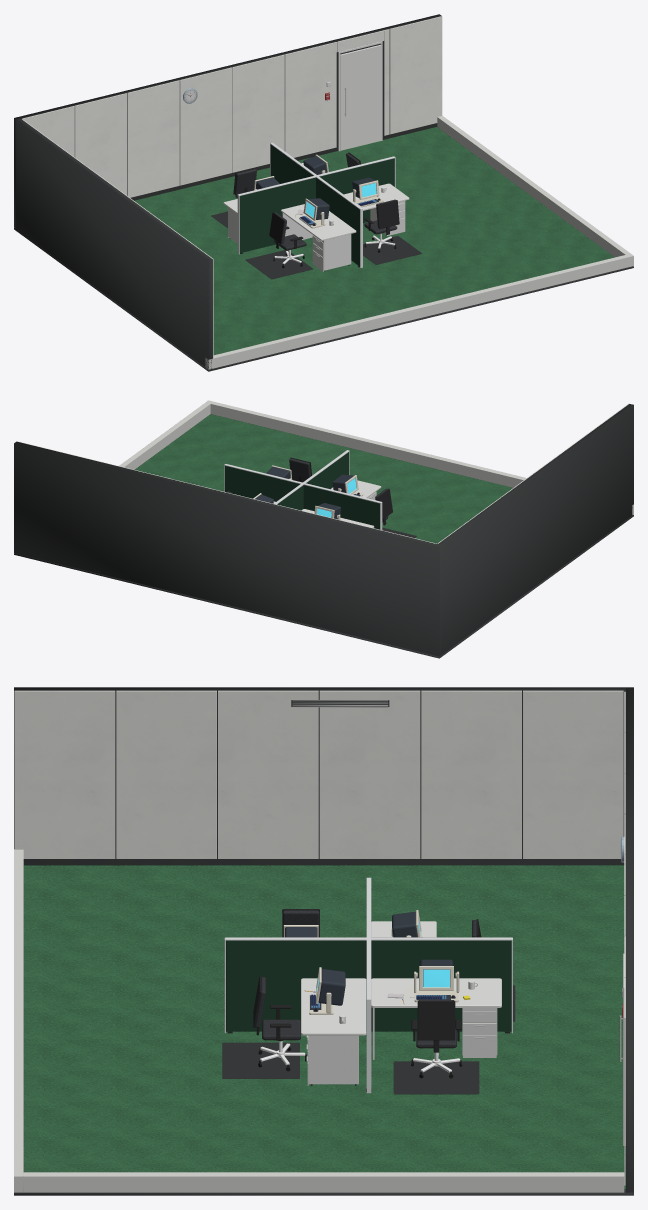
File: room.glb
3 renders of one model, top to bottom at view 1: azimuth 30°, elevation 25°; view 2: azimuth 150°, elevation 25°; view 3: azimuth 270°, elevation 25°, orthographic. The views are drawn at different scales.
Parts seen in each view (by area): view 1: carpet, left_backing_ext, kerb_front_ext, back_panel_2, back_panel_7, back_panel_3, back_panel_5_1.25, back_panel_4, part_x_core, back_panel_1, door_leaf, part_y_core (+14 smaller); view 2: back_backing_ext, left_backing_ext, carpet, kerb_front, part_x_core, subfloor_ext, kerb_front_ext, part_y_core, kerb_right, kerb_right_ext, part_x_cap, chair0_back; view 3: carpet, left_panel_0, left_panel_1, left_panel_4, left_panel_5, left_panel_2, left_panel_3, part_y_core, kerb_right_ext, left_backing, back_backing_ext, kerb_front_ext (+12 smaller).
Boxes of the visible parts, box(x1,y1,x2,y2) form: carpet: box(134, 127, 614, 355); left_backing_ext: box(16, 119, 212, 369); kerb_front_ext: box(205, 253, 633, 369); back_panel_2: box(127, 80, 179, 197); back_panel_7: box(390, 16, 442, 134); back_panel_3: box(179, 68, 232, 185); back_panel_5_1.25: box(284, 42, 336, 157); back_panel_4: box(232, 55, 284, 172); part_x_core: box(239, 158, 394, 252); back_panel_1: box(74, 93, 126, 195); door_leaf: box(340, 45, 381, 150); part_y_core: box(270, 144, 359, 266); back_backing_ext: box(14, 441, 441, 656); left_backing_ext: box(438, 404, 633, 654); carpet: box(135, 414, 512, 543); kerb_front: box(210, 404, 523, 487); part_x_core: box(225, 466, 379, 529); subfloor_ext: box(14, 515, 633, 658); kerb_front_ext: box(206, 400, 633, 514); part_y_core: box(277, 452, 348, 510); kerb_right: box(124, 404, 210, 469); kerb_right_ext: box(119, 402, 210, 466); part_x_cap: box(224, 464, 381, 503); chair0_back: box(289, 458, 310, 482); carpet: box(23, 865, 625, 1189); left_panel_0: box(14, 691, 115, 858); left_panel_1: box(116, 691, 216, 858); left_panel_4: box(421, 691, 521, 858); left_panel_5: box(523, 691, 623, 858); left_panel_2: box(218, 691, 318, 858); left_panel_3: box(319, 691, 420, 858); part_y_core: box(226, 940, 511, 1031); kerb_right_ext: box(23, 1172, 624, 1192); left_backing: box(14, 690, 625, 864); back_backing_ext: box(626, 687, 633, 1192); kerb_front_ext: box(14, 849, 23, 1192).
Size of the model in its own units: 9.6 by 2.4 by 7.6.
34 materials, 10 textured.
